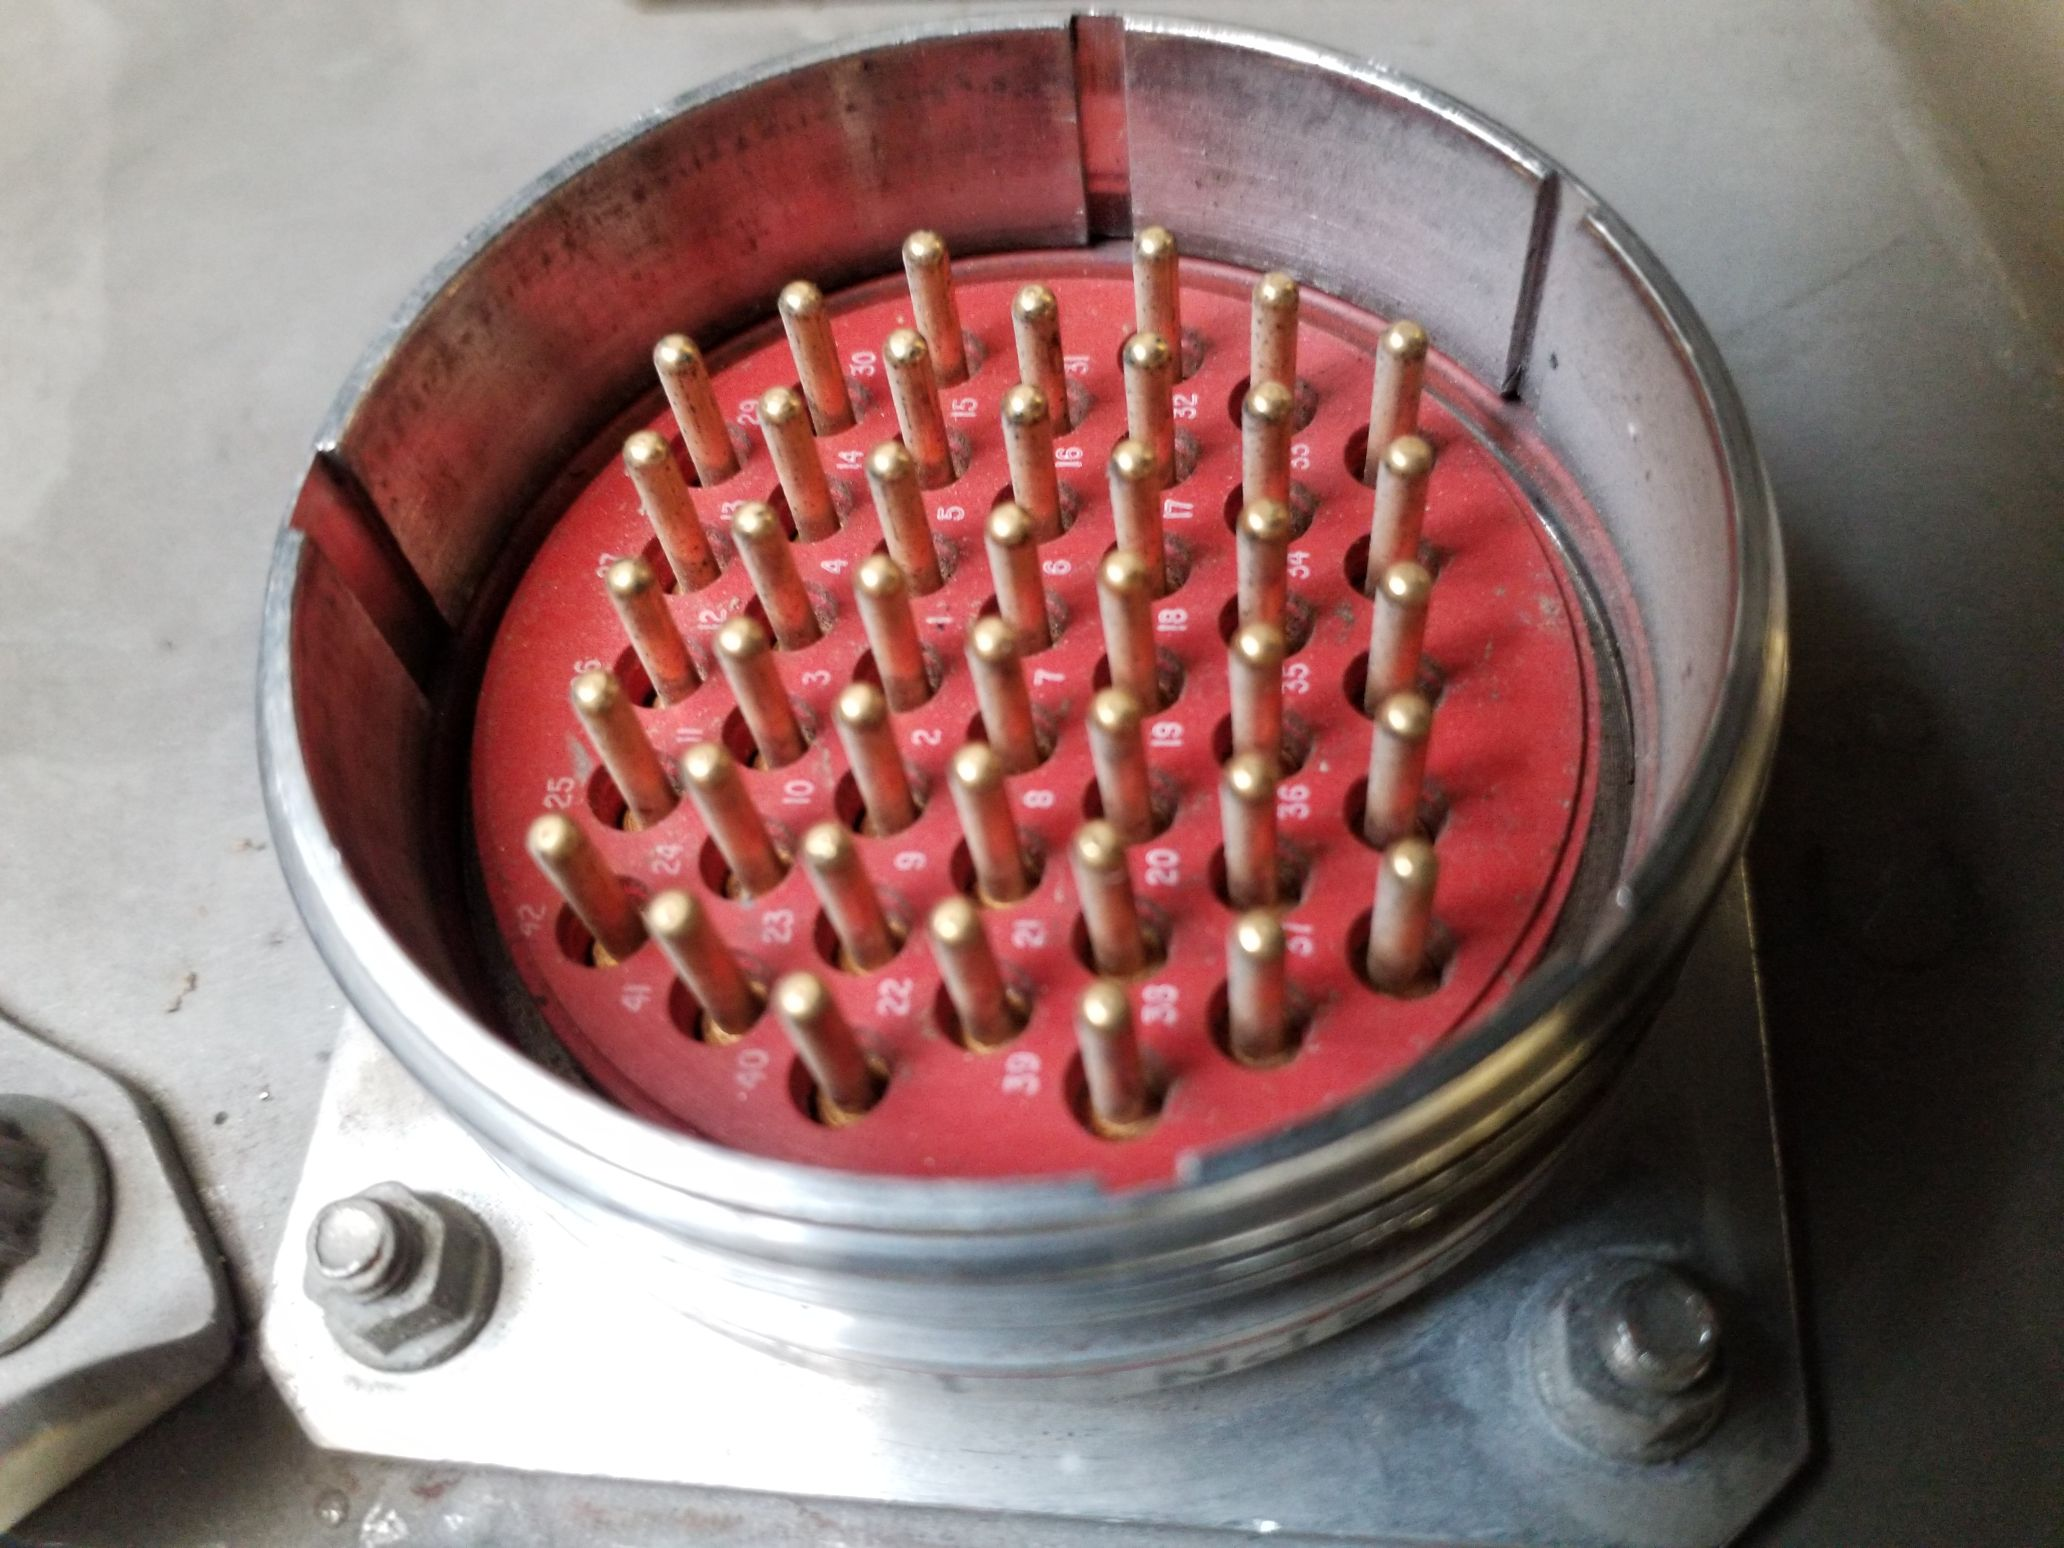outlet: (263, 7, 1760, 1304)
